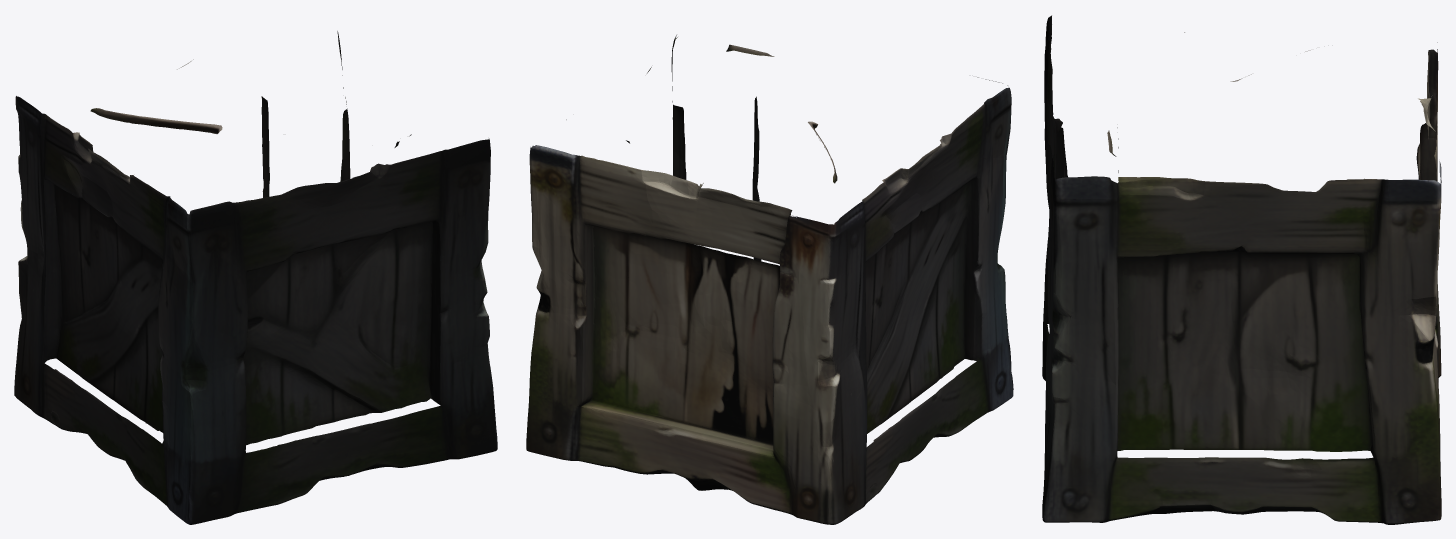
Rendered from crate_wood.glb.
3 views of the same model, side by side, from view 1: azimuth 30°, elevation 25°; view 2: azimuth 150°, elevation 25°; view 3: azimuth 270°, elevation 25° (orthographic). The views are drawn at different scales.
Visible parts, largest first — view 1: world; view 2: world; view 3: world.
Boxes of the visible parts, x1=… form: world: x1=14, y1=31, x2=497, y2=524; world: x1=526, y1=35, x2=1013, y2=524; world: x1=1042, y1=15, x2=1441, y2=524.
Size of the model in its own units: 0.9911 by 0.9735 by 0.9988.
Materials: 1 (1 with a texture image).
